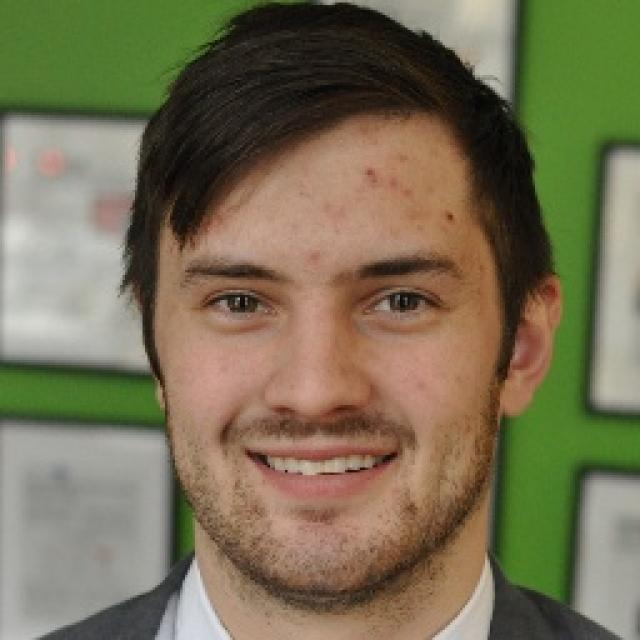earlobe: (498, 366, 546, 418)
eye: (361, 288, 445, 316), (204, 286, 272, 319)
nose: (268, 407, 371, 438)
wholeear: (500, 277, 563, 418)
